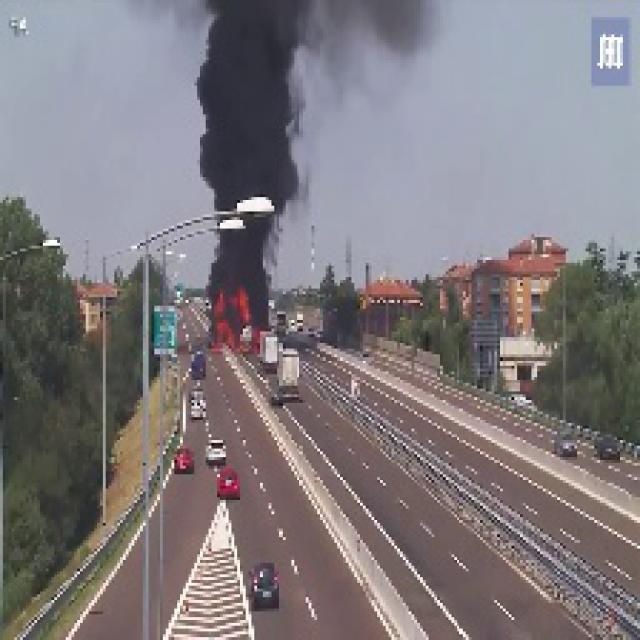fire: (203, 280, 260, 357)
